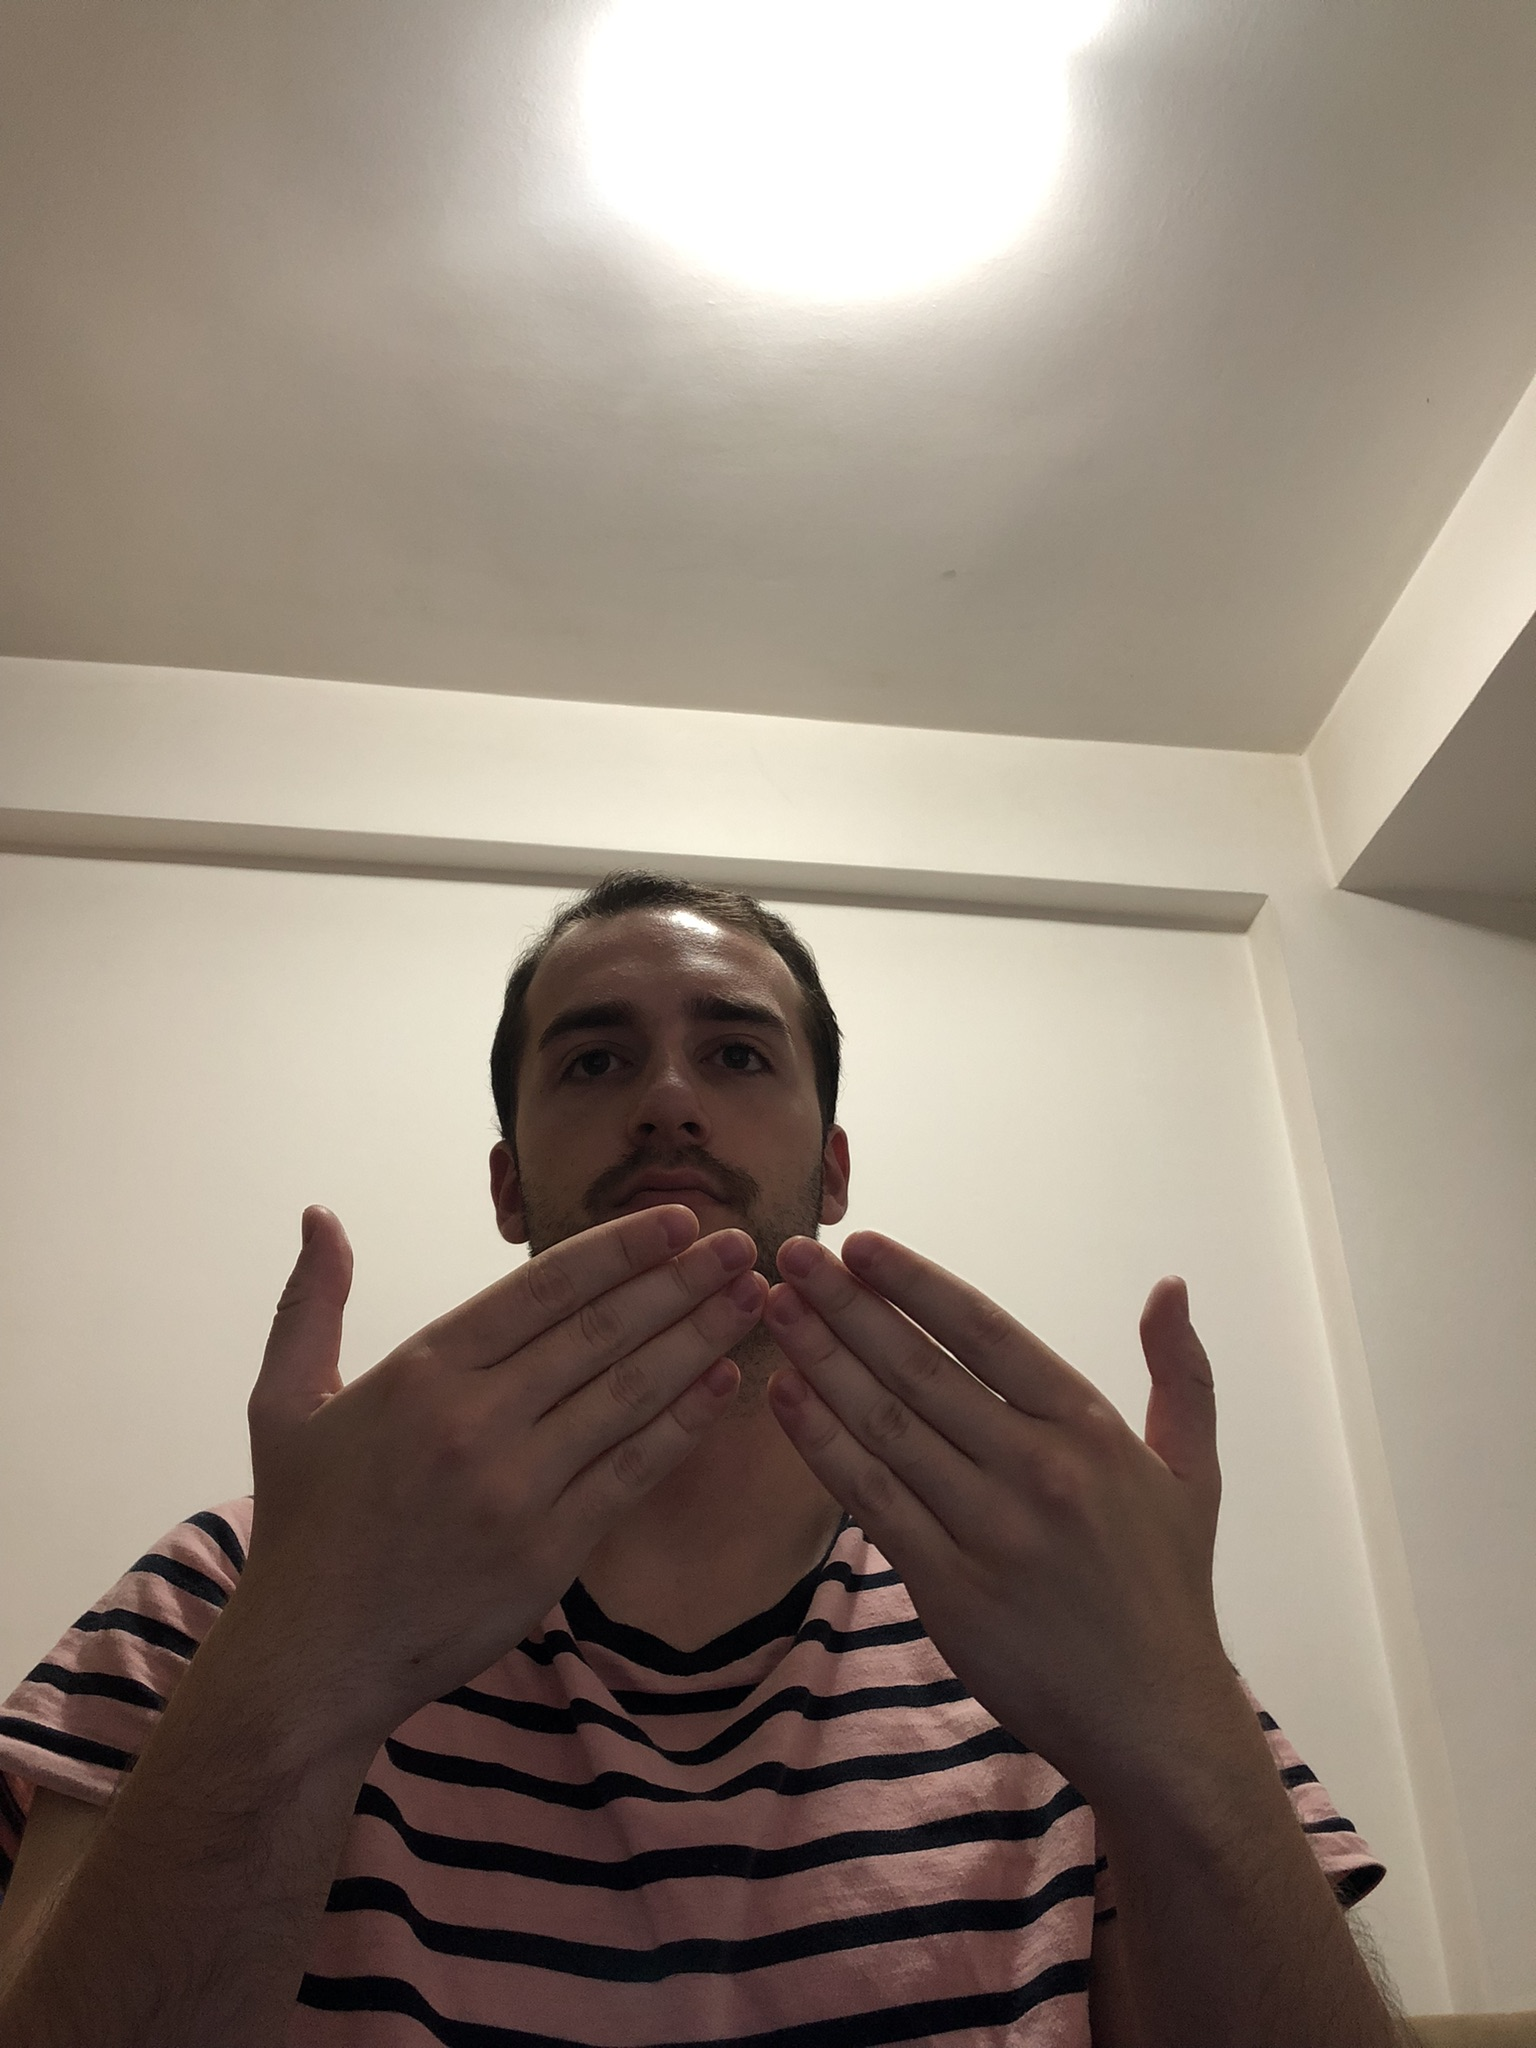Thank You: (239, 1200, 1229, 1838)
